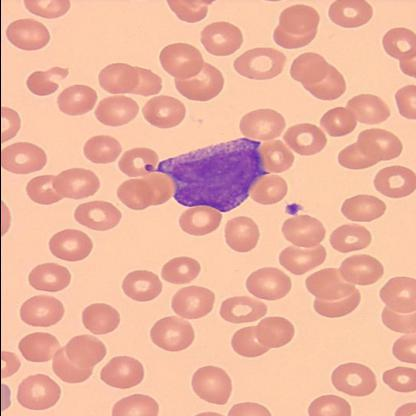Myelocyte: (150, 139, 264, 213)
